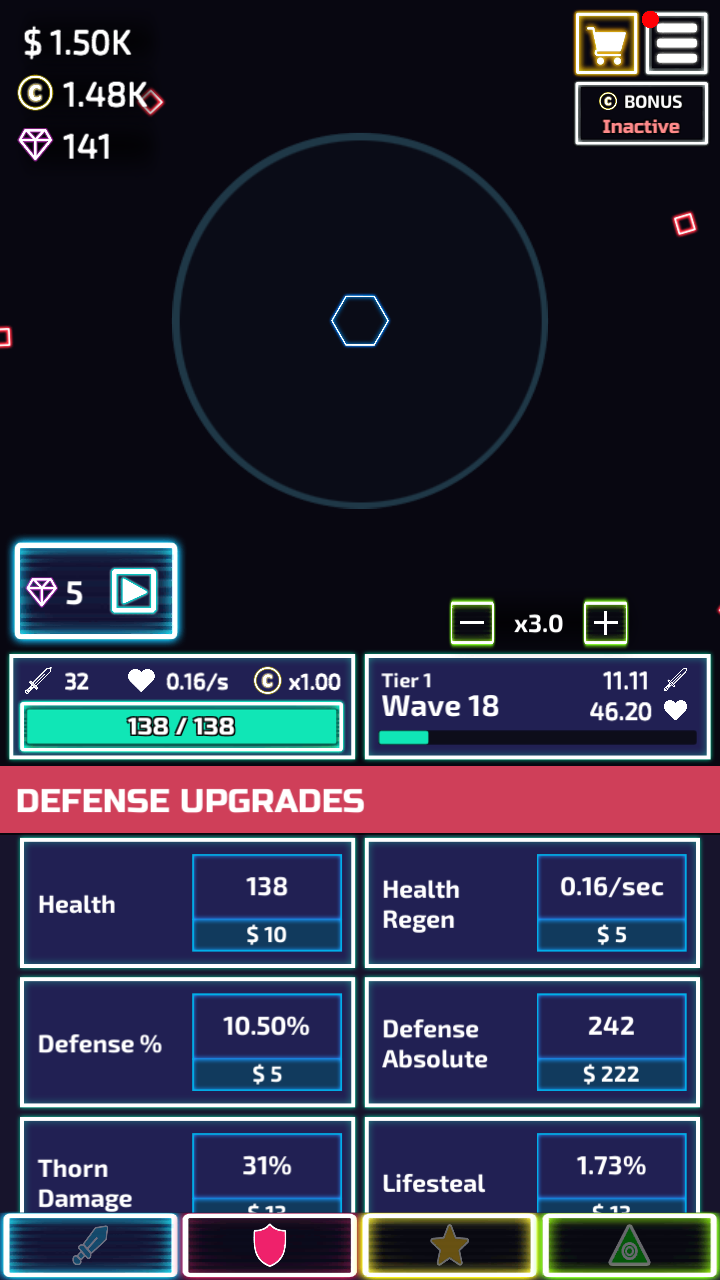B_Gem_Ad: (11, 539, 180, 632)
B_Menu_Action_Required: (637, 4, 707, 73)
B_Menu_Closed: (571, 5, 714, 78)
B_Slot: (21, 838, 354, 965), (369, 977, 703, 1102), (21, 983, 356, 1102), (365, 842, 696, 960), (16, 1118, 361, 1207), (369, 1123, 696, 1212)
B_Slot_Button: (187, 858, 345, 956), (536, 856, 685, 954), (532, 997, 684, 1093), (187, 999, 344, 1090), (532, 1132, 680, 1214), (187, 1139, 342, 1203)
B_Slot_Label: (370, 1006, 500, 1081), (25, 1146, 137, 1214), (370, 1154, 498, 1211), (372, 863, 466, 938), (32, 1022, 164, 1075), (27, 874, 119, 924)
B_Slot_Price: (561, 1050, 639, 1093), (228, 913, 308, 952), (582, 911, 636, 951), (228, 1056, 294, 1088)
B_Slot_Value: (543, 863, 671, 911), (212, 1134, 301, 1186), (205, 1006, 322, 1045), (555, 1145, 662, 1187), (563, 1004, 646, 1043), (235, 869, 310, 904)
B_Tab_Defense: (2, 767, 720, 830)
